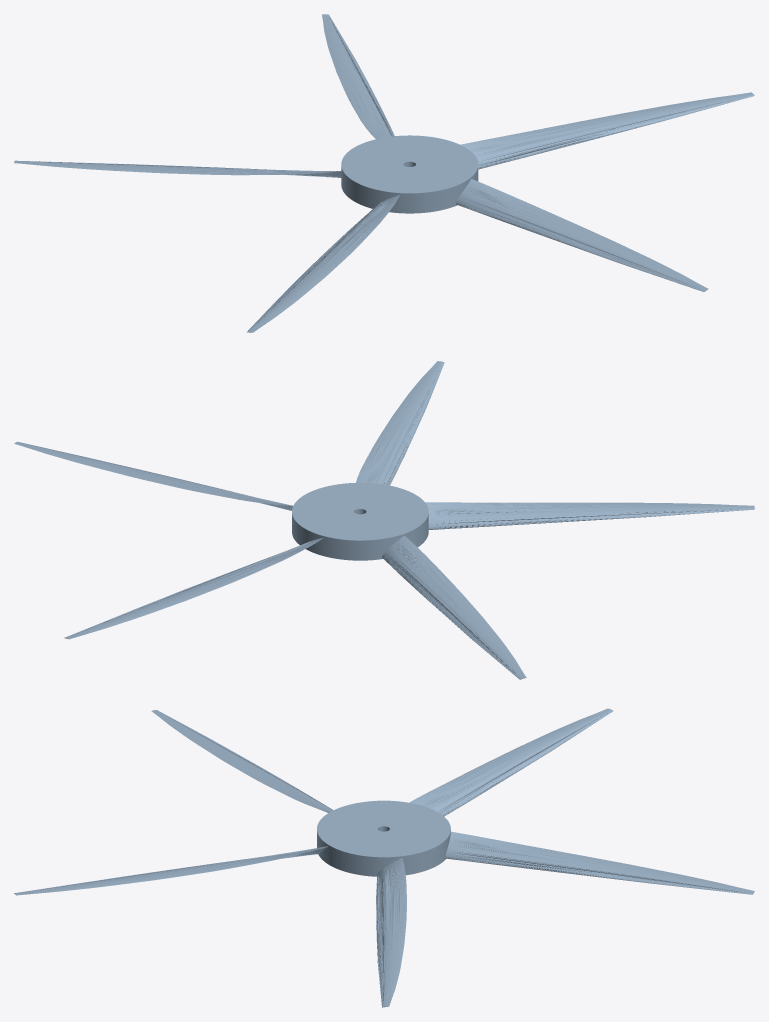
3 renders of one model, top to bottom at view 1: azimuth 30°, elevation 25°; view 2: azimuth 150°, elevation 25°; view 3: azimuth 270°, elevation 25°, orthographic. The views are drawn at different scales.
Visible parts, largest first — view 1: 15in-5b.stl; view 2: 15in-5b.stl; view 3: 15in-5b.stl.
Boxes of the visible parts, x1,y1,x2,y2 form: 15in-5b.stl: (14,14,754,332); 15in-5b.stl: (14,361,754,679); 15in-5b.stl: (14,708,754,1007).
Size of the model in its own units: 0.3462 by 0.0107 by 0.3635.
